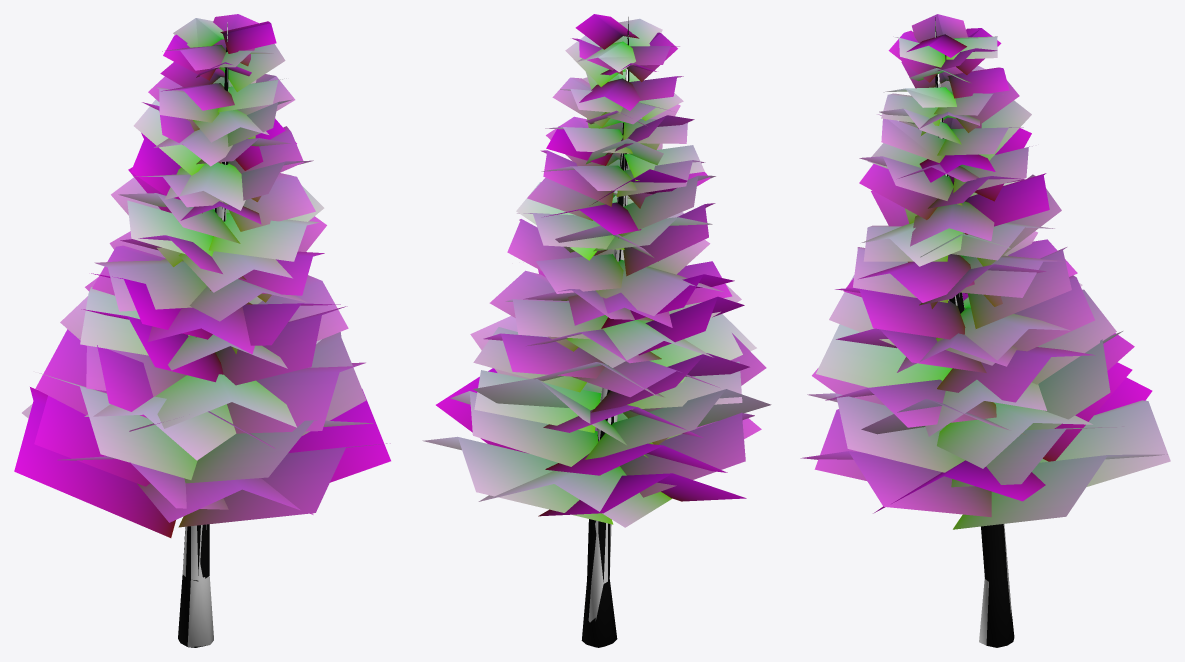
Rendered from fir_01_15m_c.dae.
3 renders of one model, left to right at view 1: azimuth 30°, elevation 25°; view 2: azimuth 150°, elevation 25°; view 3: azimuth 270°, elevation 25°, orthographic. The views are drawn at different scales.
Visible parts, largest first — view 1: fir128, colmesh-1; view 2: fir128, colmesh-1; view 3: fir128, colmesh-1.
Part boxes in pixels (bbox=[...]): fir128: bbox=[14, 14, 390, 647]; colmesh-1: bbox=[182, 22, 228, 646]; fir128: bbox=[422, 14, 771, 647]; colmesh-1: bbox=[588, 35, 629, 622]; fir128: bbox=[800, 14, 1170, 647]; colmesh-1: bbox=[935, 21, 1011, 645].
Bounding box in the file's own units: 8.05 × 8.06 × 15.13.
